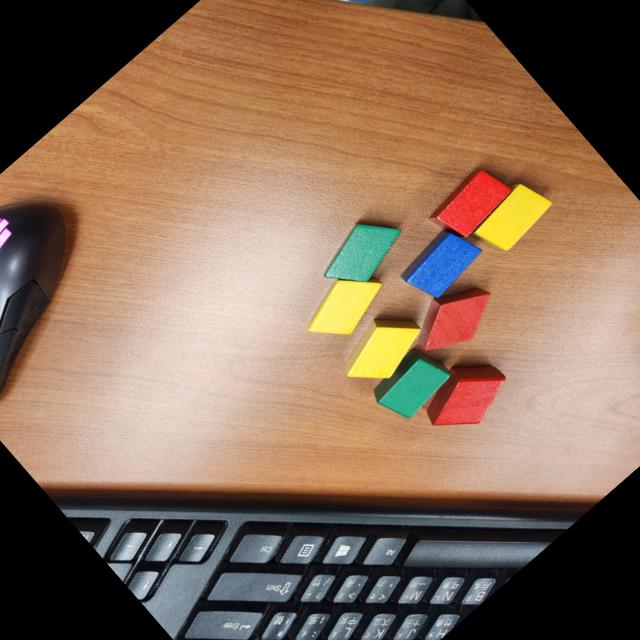blue: (394, 218, 489, 310)
green: (310, 202, 416, 304), (364, 339, 458, 429)
red: (410, 344, 518, 448), (402, 268, 507, 370), (423, 158, 517, 248)
yellow: (329, 299, 434, 399), (294, 257, 396, 354), (466, 170, 560, 260)
